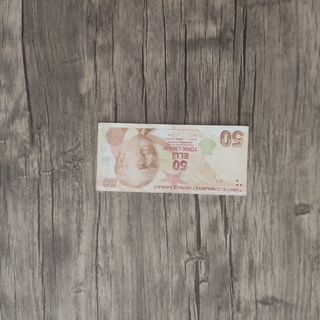50TLFront: (95, 121, 249, 196)
